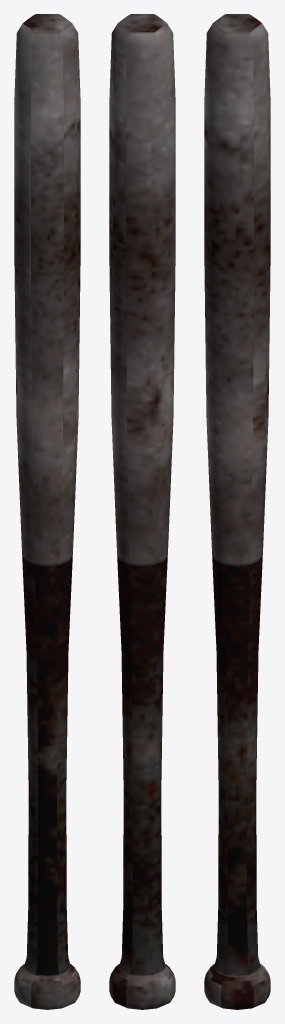
The model's file is Baseballbat_Generic.fbx.
3 renders of one model, left to right at view 1: azimuth 90°, elevation 25°; view 2: azimuth 210°, elevation 25°; view 3: azimuth 270°, elevation 25°, orthographic.
Parts seen in each view (by area): view 1: Cylinder; view 2: Cylinder; view 3: Cylinder.
Boxes of the visible parts, x1,y1,x2,y2 form: Cylinder: (14, 14, 80, 1009); Cylinder: (109, 14, 175, 1009); Cylinder: (204, 14, 270, 1009).
Size of the model in its own units: 20.97 by 341 by 21.06.
